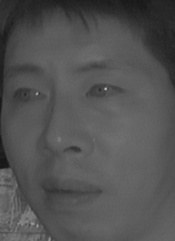eye: (81, 80, 125, 102), (8, 85, 49, 107)
mouth: (38, 169, 101, 212)
